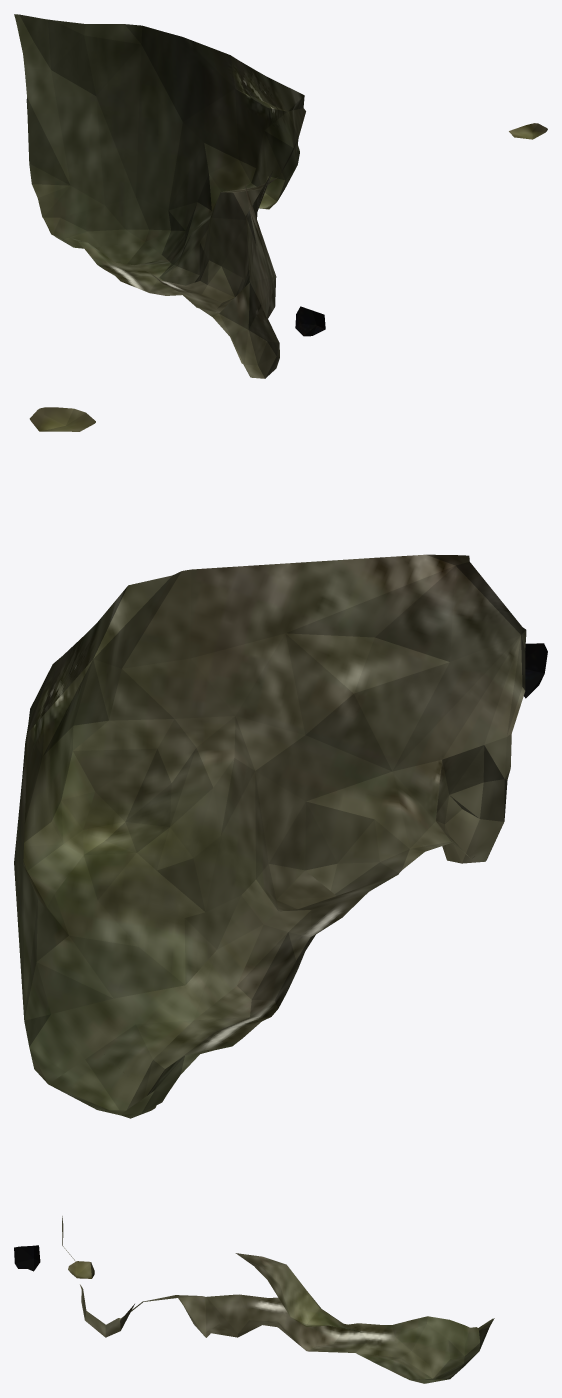
3 renders of one model, top to bottom at view 1: azimuth 30°, elevation 25°; view 2: azimuth 150°, elevation 25°; view 3: azimuth 270°, elevation 25°, orthographic. The views are drawn at different scales.
Bounding box in the file's own units: 1.65 × 1.26 × 2.88.
1 material, 1 textured.
